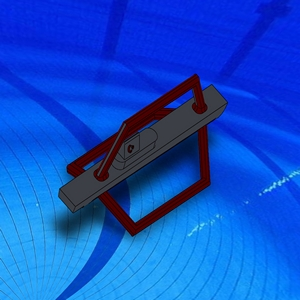submarine: (57, 72, 229, 240)
